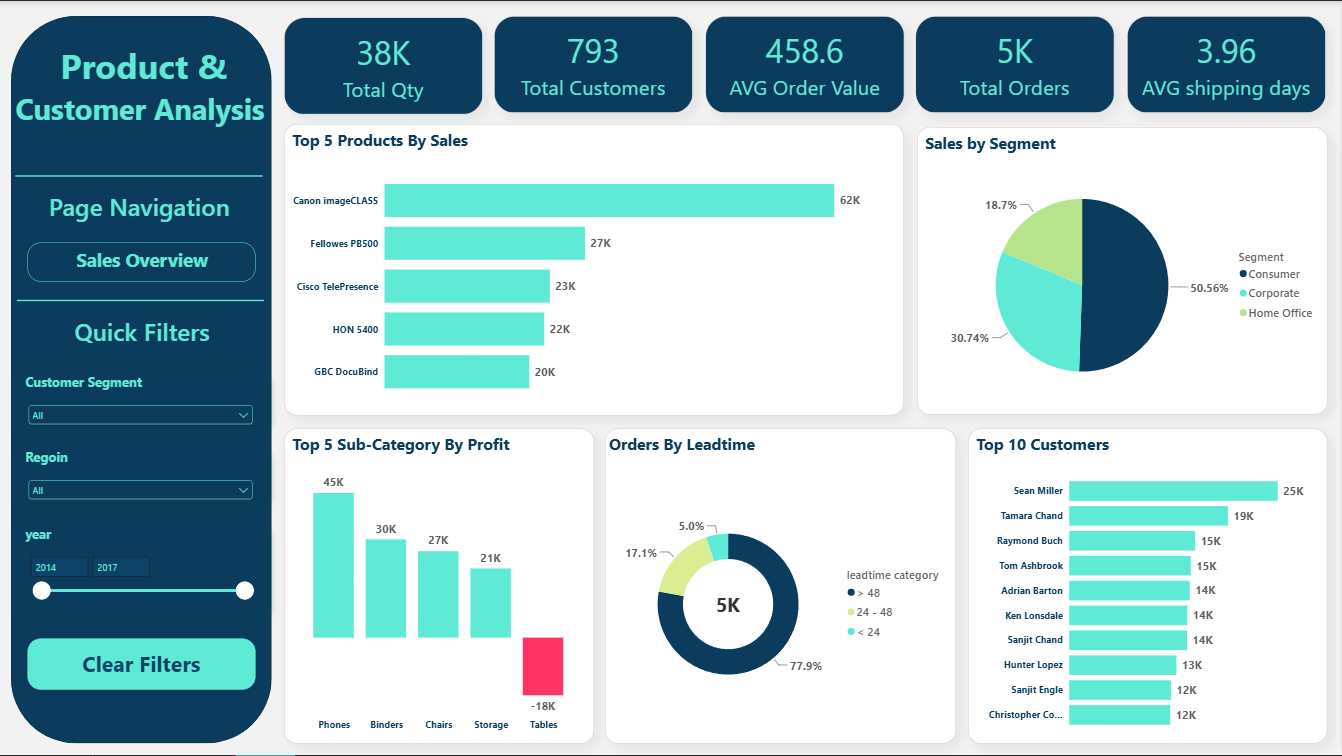

What the dashboard file says about the page in this screenshot:
{"tool":"powerbi","page":{"name":"PRODUCT","canvas":[1920,1080],"ordinal":1},"visuals":[{"type":"clusteredBarChart","title":"Top 5 Products By Sales","fields":{"Category":["Dimproduct.Short Product Name"],"Y":["Sum(fact sales.Sales)"]},"box":[407.4,175.7,888.1,417.2],"z":0},{"type":"clusteredColumnChart","title":"Top 5 Sub-Category By Profit","fields":{"Category":["Dimproduct.Sub-Category"],"Y":["Sum(fact sales.Profit)"]},"box":[407.4,612.4,444,451.4],"z":1000},{"type":"pieChart","title":" Sales by Segment","fields":{"Category":["Dimcustomer.Segment"],"Y":["fact sales.Total Sales"]},"box":[1315.1,180.5,588,412.3],"z":2000},{"type":"barChart","title":"Top 10 Customers","fields":{"Y":["fact sales.Total Sales"],"Category":["Dimcustomer.Customer Name"]},"box":[1388.3,612.4,514.8,451.4],"z":3000},{"type":"shape","box":[17.1,22,373.3,1041.8],"z":4000},{"type":"slicer","title":"year","fields":{"Values":["Dimdate.year"]},"box":[26.8,744.1,353.8,136.6],"z":5000},{"type":"slicer","title":"Regoin","fields":{"Values":["Dimcity.Region"]},"box":[26.8,634.4,353.8,87.8],"z":6000},{"type":"slicer","title":"Customer Segment","fields":{"Values":["Dimcustomer.Segment"]},"box":[26.8,527,353.8,85.4],"z":7000},{"type":"textbox","title":"Product &","box":[75.6,58.6,263.5,70.8],"z":8000},{"type":"actionButton","box":[41.5,912.5,326.9,73.2],"z":9000},{"type":"shape","box":[26.8,407.4,353.8,41.5],"z":10000},{"type":"textbox","title":"Quick Filters","box":[102.5,448.9,207.4,58.6],"z":11000},{"type":"textbox","title":"Page Navigation","box":[65.9,270.8,275.7,58.6],"z":12000},{"type":"actionButton","title":"Sales Overview","box":[41.5,346.5,326.9,56.1],"z":13000},{"type":"textbox","title":"Customer Analysis","box":[17.1,124.4,368.4,70.8],"z":14000},{"type":"cardVisual","fields":{"Data":["fact sales.Total Qty"]},"box":[407.4,24.4,285.5,139.1],"z":15000},{"type":"cardVisual","fields":{"Data":["fact sales.Total Orders"]},"box":[1313.2,22,285.5,139.1],"z":16000},{"type":"cardVisual","fields":{"Data":["fact sales.Total Customers"]},"box":[709.4,22,285.5,139.1],"z":17000},{"type":"cardVisual","fields":{"Data":["fact sales.AVG Order Value"]},"box":[1011.3,22,285.5,139.1],"z":18000},{"type":"cardVisual","fields":{"Data":["fact sales.AVG shipping days"]},"box":[1615.2,22,285.5,139.1],"z":19000},{"type":"donutChart","title":"Orders By Leadtime","fields":{"Category":["fact sales.leadtime category"],"Y":["fact sales.Total Orders"]},"box":[868.6,612.4,502.6,451.4],"z":20000},{"type":"shape","box":[24.4,229.3,353.8,41.5],"z":21000}]}

Visuals, with their boxes in screenshot pixels (x1, y1, x2, y2), scaled from the page's 1920x1080 canvas onto the 1342x756 screenshot:
"Top 5 Products By Sales" clusteredBarChart: 285 123 906 415
"Top 5 Sub-Category By Profit" clusteredColumnChart: 285 429 595 745
" Sales by Segment" pieChart: 919 126 1330 415
"Top 10 Customers" barChart: 970 429 1330 745
shape: 12 15 273 745
"year" slicer: 19 521 266 616
"Regoin" slicer: 19 444 266 506
"Customer Segment" slicer: 19 369 266 429
"Product &" textbox: 53 41 237 91
actionButton: 29 639 257 690
shape: 19 285 266 314
"Quick Filters" textbox: 72 314 217 355
"Page Navigation" textbox: 46 190 239 231
"Sales Overview" actionButton: 29 243 257 282
"Customer Analysis" textbox: 12 87 269 137
cardVisual - fact sales.Total Qty: 285 17 484 114
cardVisual - fact sales.Total Orders: 918 15 1117 113
cardVisual - fact sales.Total Customers: 496 15 695 113
cardVisual - fact sales.AVG Order Value: 707 15 906 113
cardVisual - fact sales.AVG shipping days: 1129 15 1329 113
"Orders By Leadtime" donutChart: 607 429 958 745
shape: 17 161 264 190
